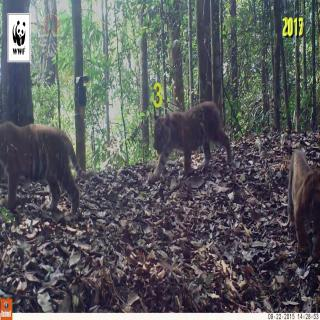Tiger: (0, 106, 93, 218), (147, 103, 243, 173)
